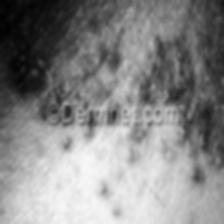Toxin: (63, 120, 224, 206), (90, 34, 196, 104), (0, 0, 75, 96)
